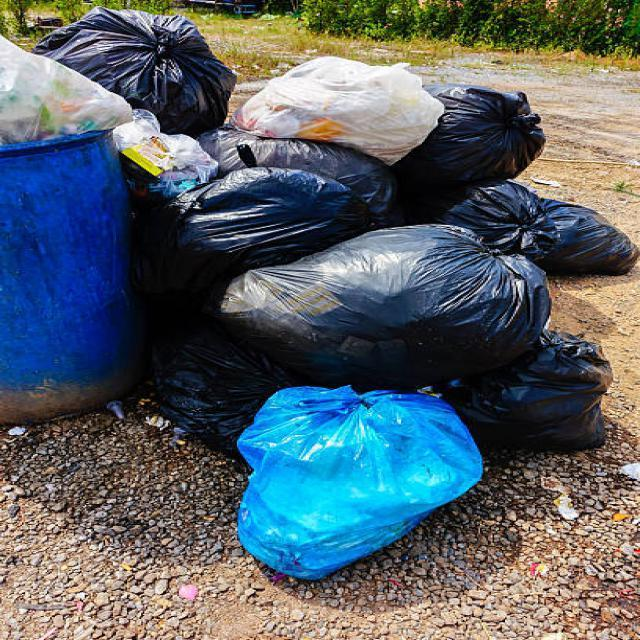Trashbag: (222, 242, 537, 372), (47, 14, 238, 130), (411, 79, 550, 195), (475, 347, 607, 463), (188, 177, 345, 273), (471, 187, 628, 276)
